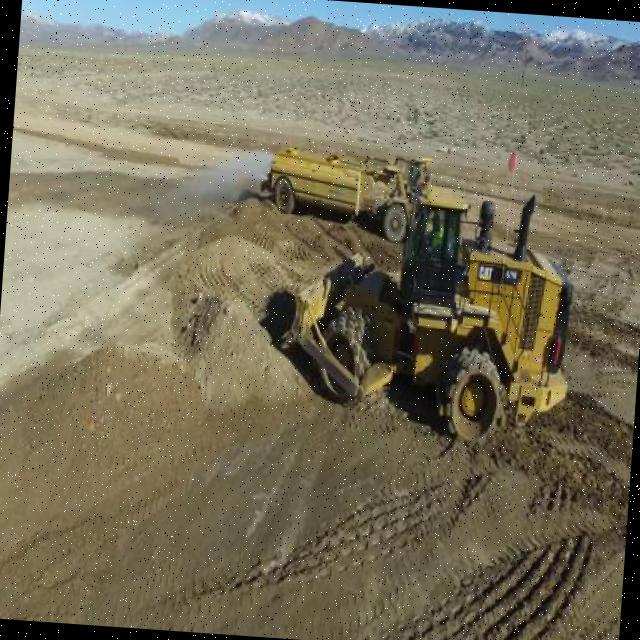Dump Truck: (264, 134, 436, 242)
